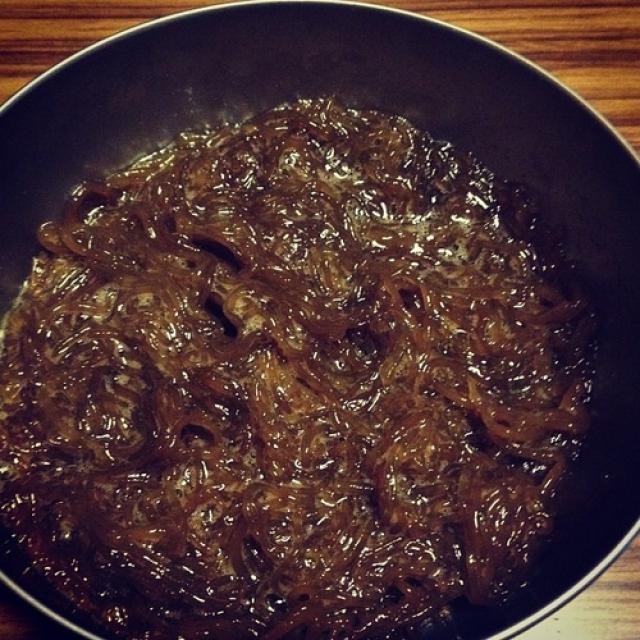蔬菜料理: (26, 109, 585, 608)
